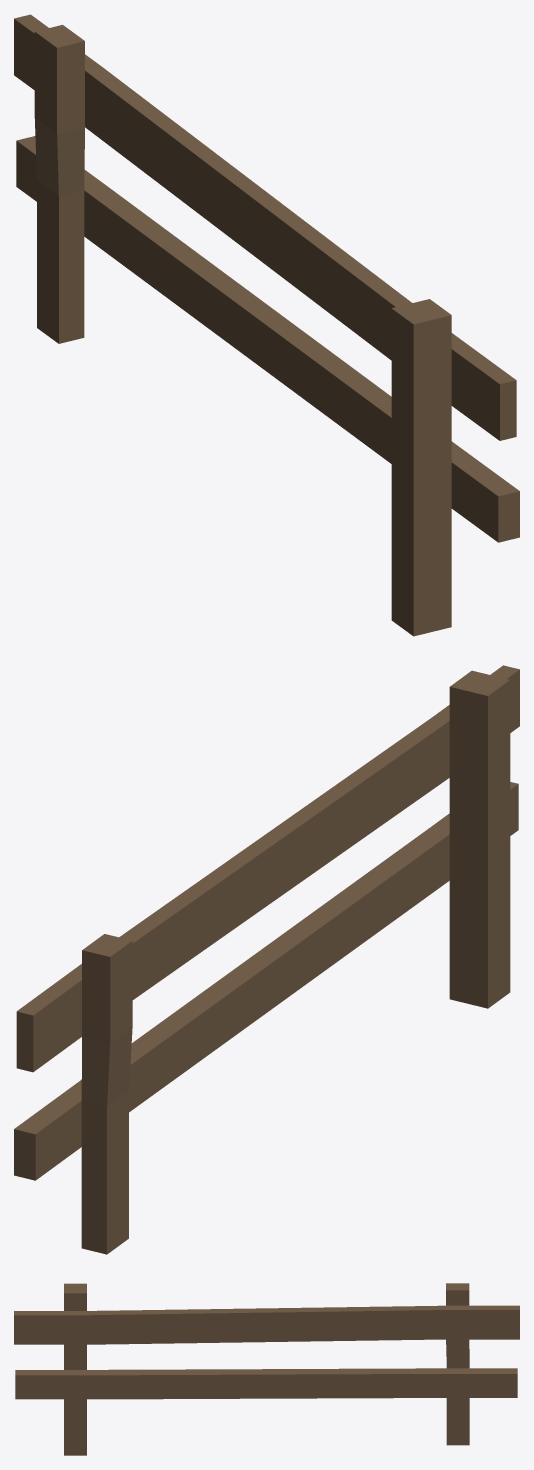
Rendered from fence1.fbx.
3 renders of one model, top to bottom at view 1: azimuth 30°, elevation 25°; view 2: azimuth 150°, elevation 25°; view 3: azimuth 270°, elevation 25°, orthographic. The views are drawn at different scales.
Visible parts, largest first — view 1: Cube; view 2: Cube; view 3: Cube.
Part boxes in pixels (x1=…): Cube: x1=14, y1=14, x2=519, y2=636; Cube: x1=14, y1=665, x2=519, y2=1254; Cube: x1=14, y1=1283, x2=519, y2=1455.
Size of the model in its own units: 11.73 by 59.56 by 165.
